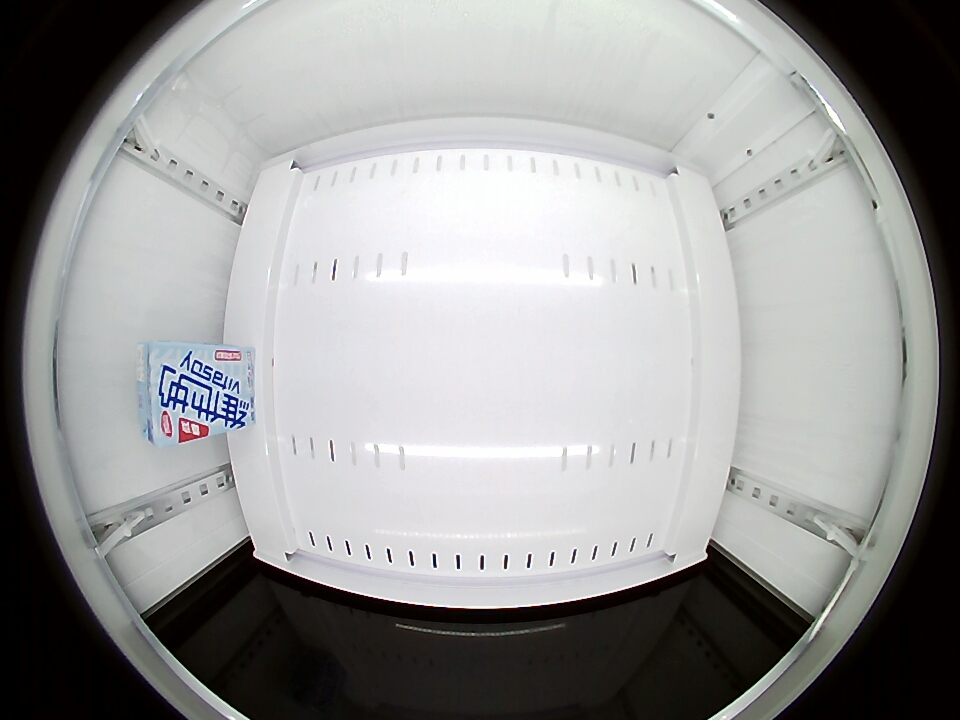weitanaiditang: (137, 343, 208, 449)
